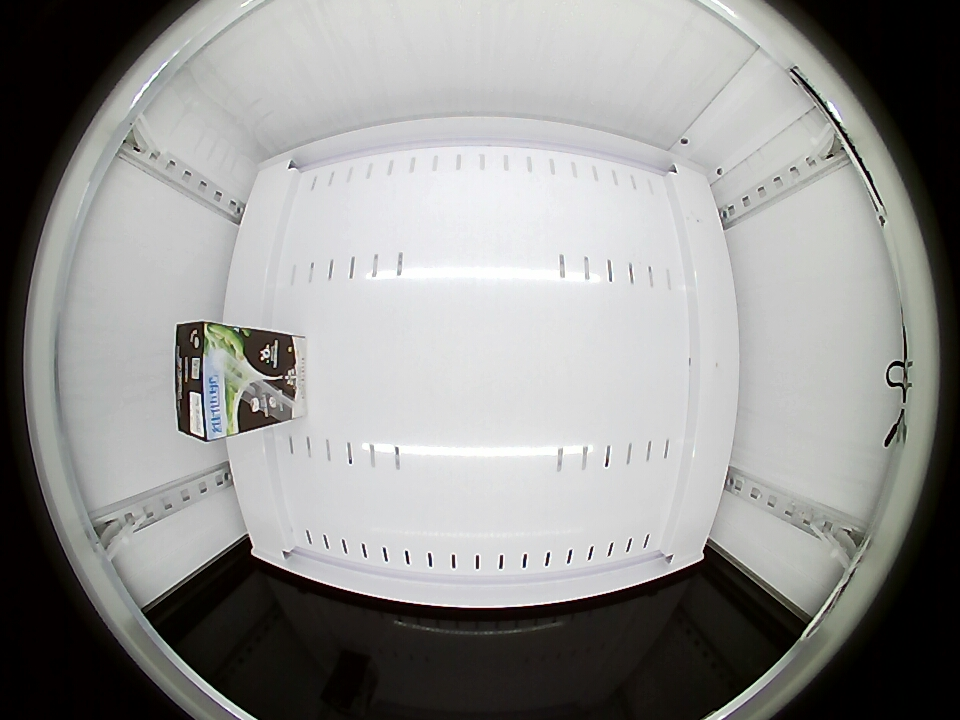weitanai2: (175, 321, 240, 442)
